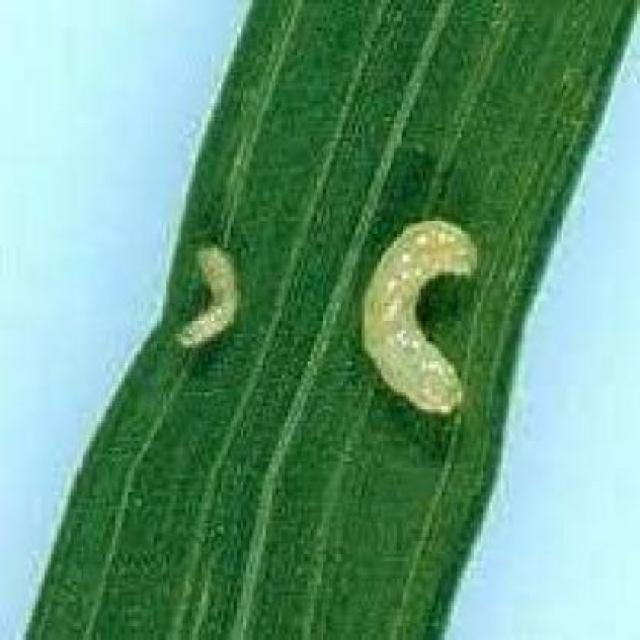whorl-maggot: (349, 208, 489, 426), (177, 226, 251, 363)
